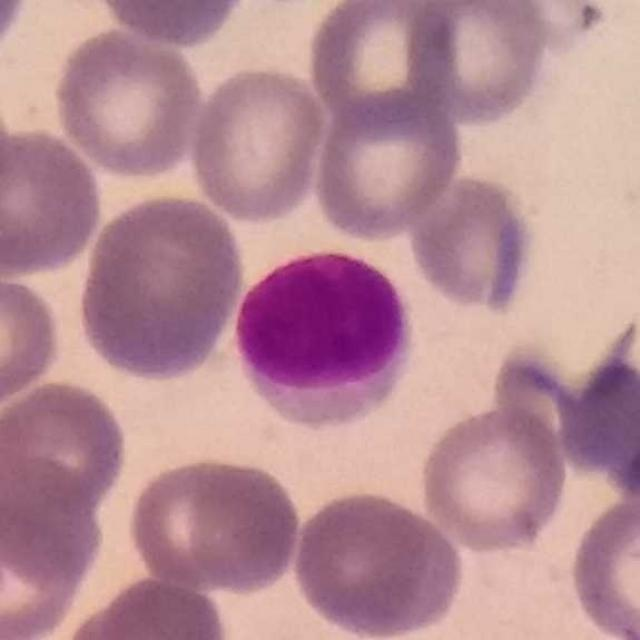Lymphocyte: (226, 242, 421, 434)
RBC: (72, 188, 248, 385), (287, 485, 469, 640), (124, 451, 306, 596), (49, 22, 208, 182), (308, 90, 466, 244), (415, 401, 571, 556), (186, 60, 330, 225), (404, 168, 541, 320), (304, 0, 458, 134), (0, 376, 132, 525), (403, 0, 554, 129), (0, 471, 106, 640), (0, 123, 107, 280), (553, 340, 640, 503), (61, 572, 234, 640), (565, 487, 639, 640), (0, 266, 66, 419), (458, 0, 616, 59), (92, 0, 250, 50), (0, 76, 17, 232), (0, 0, 35, 70)
